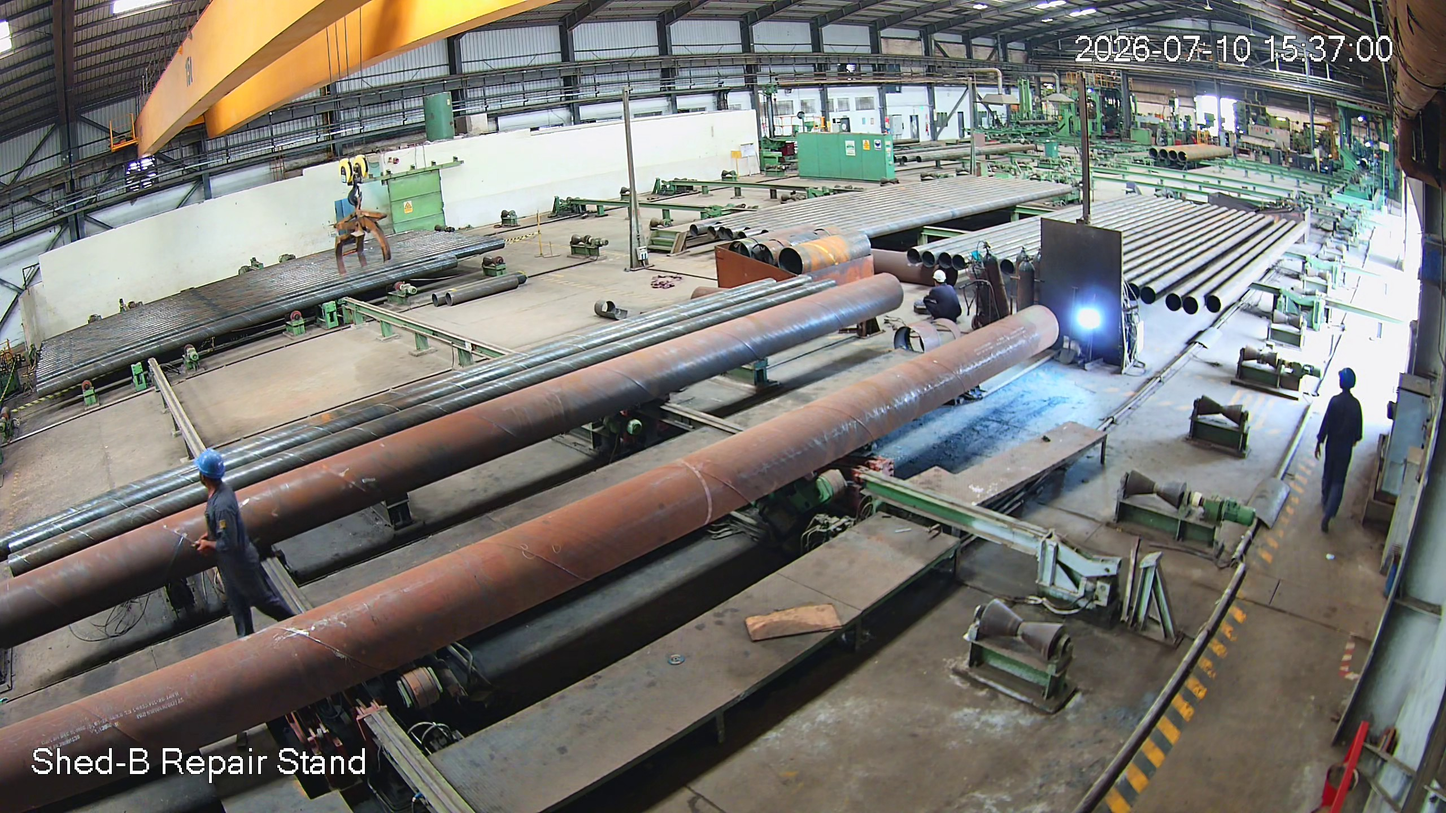Helmet: (190, 451, 249, 509), (930, 269, 962, 296)
Person: (185, 456, 309, 630), (922, 270, 964, 322)
